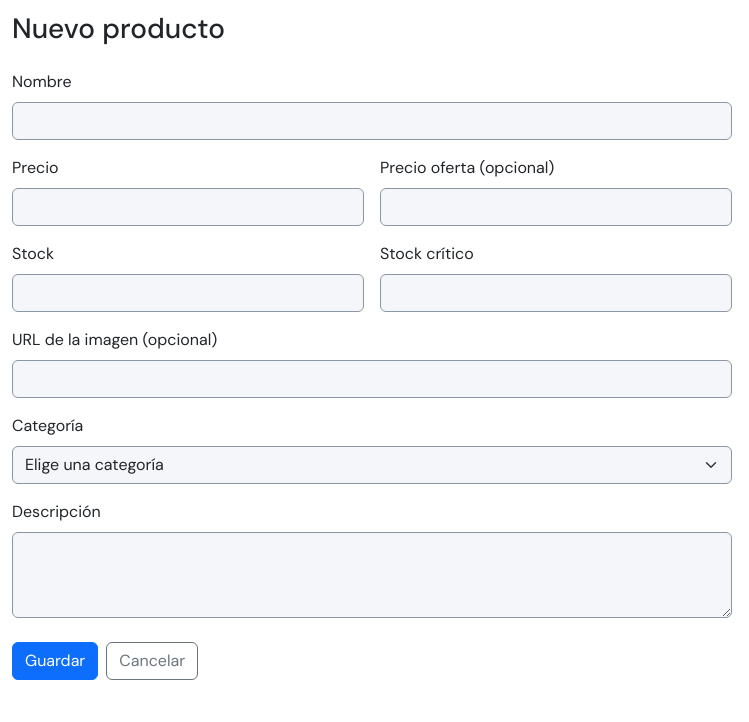
it: ProductoForm › no acepta una oferta mayor o igual al precio
The image size is (749, 722).
In the field labelled "Nombre": (372, 121) x1=12 y1=102 x2=732 y2=140, type "Mouse Pad XL"
In the number field labelled "Precio": (188, 207) x1=12 y1=188 x2=364 y2=226, type "19990"
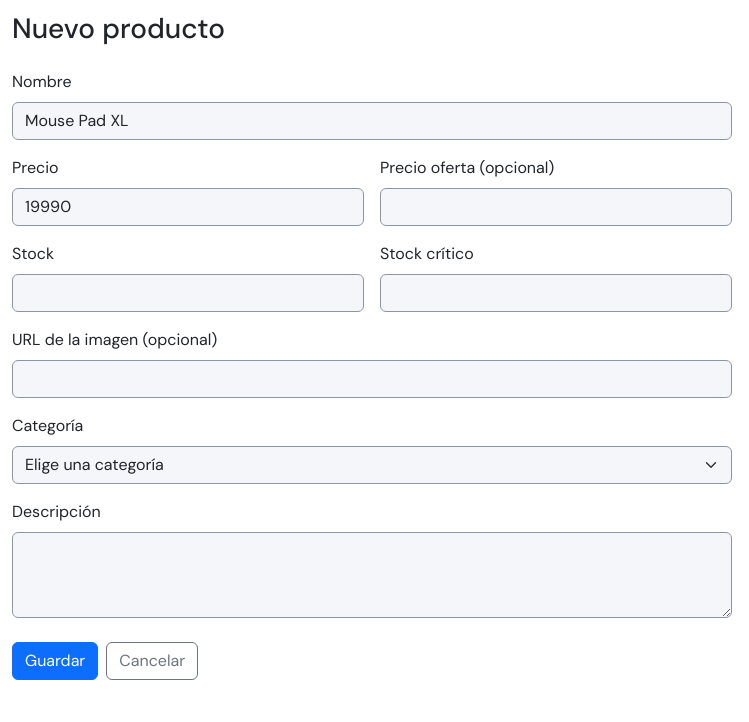
In the number field labelled "Stock": (188, 293) x1=12 y1=274 x2=364 y2=312, type "10"
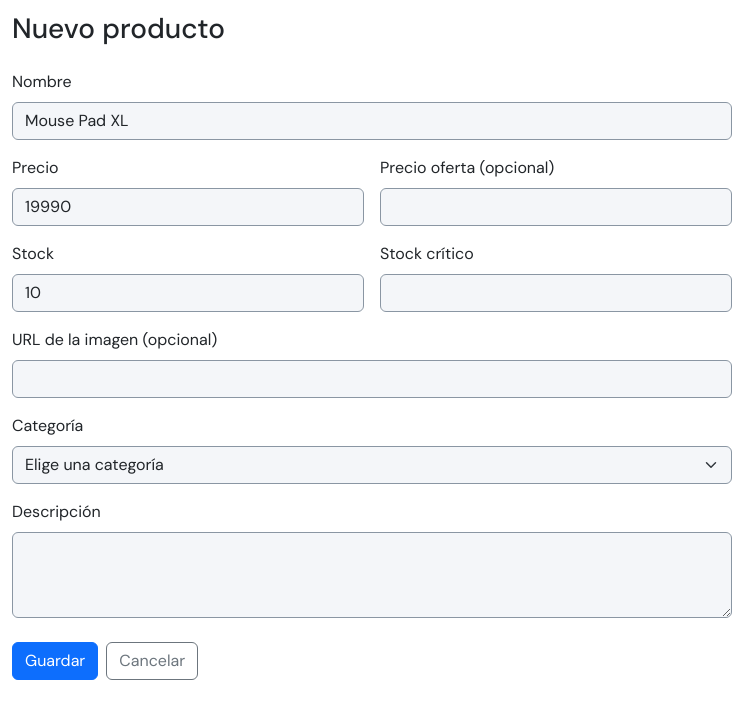
In the number field labelled "Stock crítico": (556, 293) x1=380 y1=274 x2=732 y2=312, type "2"
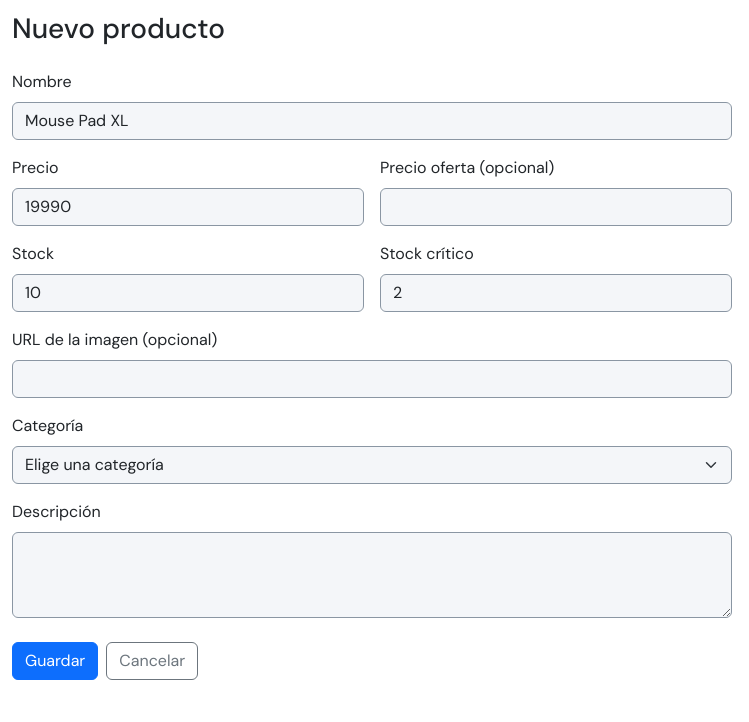
Select "Periféricos" in the dropdown labelled "Categoría": (372, 465) x1=12 y1=446 x2=732 y2=484
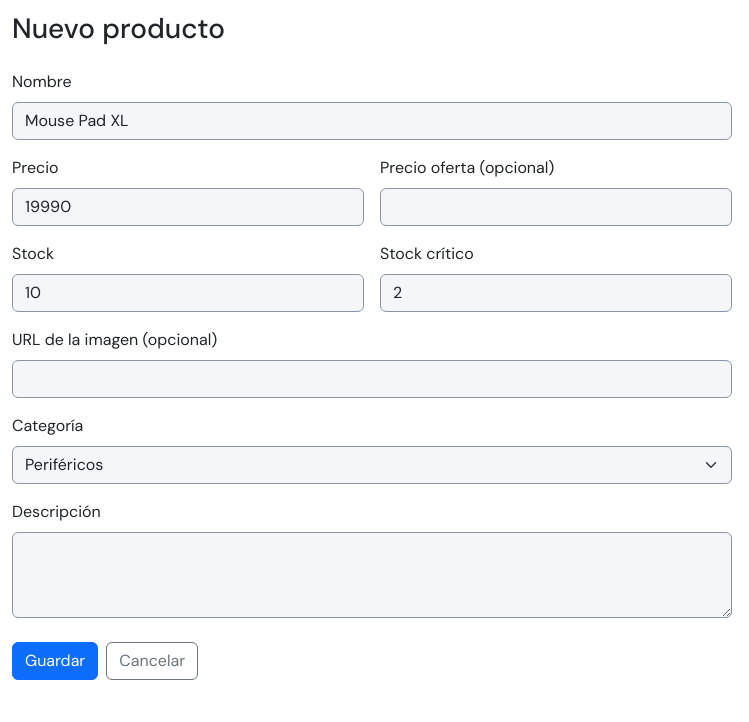
In the number field labelled "Precio oferta (opcional)": (556, 207) x1=380 y1=188 x2=732 y2=226, type "19990"
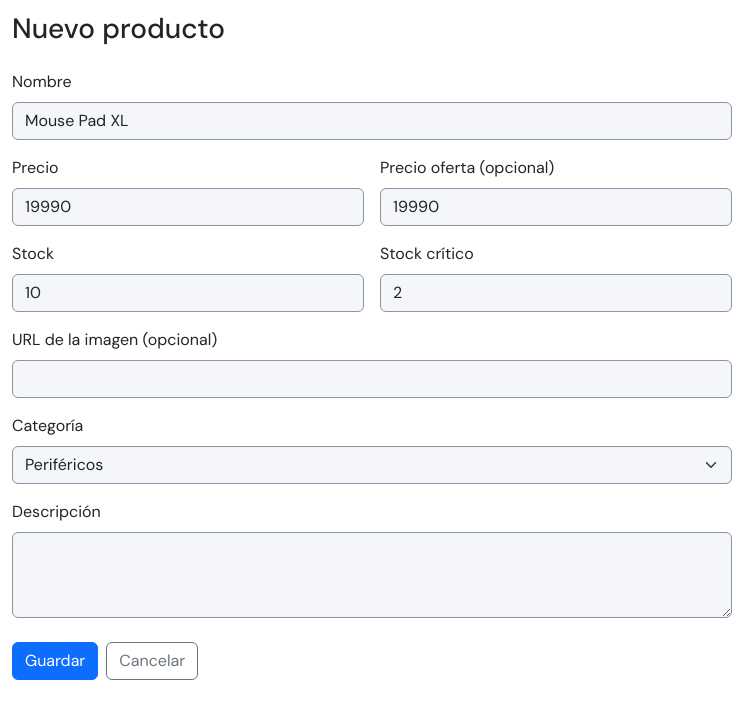
Click the button "Guardar": (55, 661) x1=12 y1=642 x2=98 y2=680
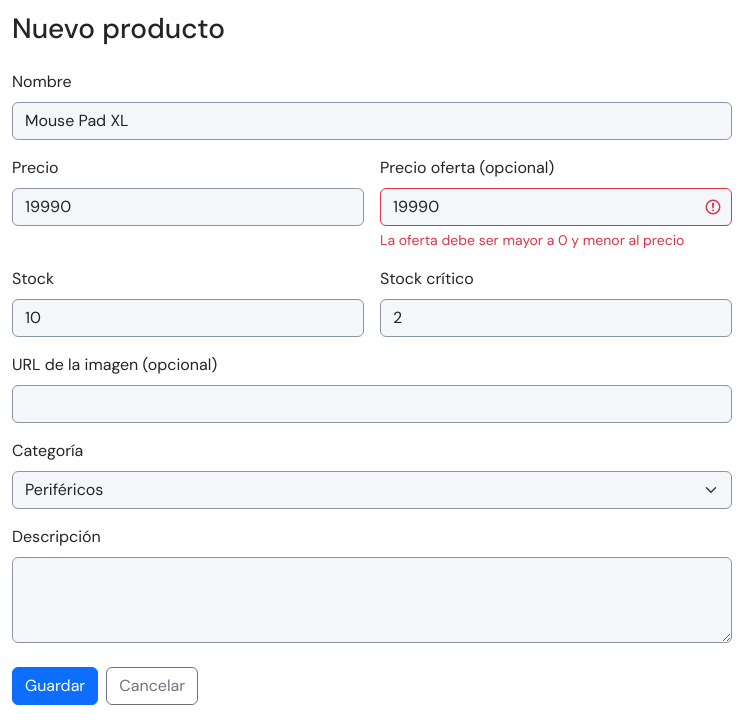
Expected: the text "La oferta debe ser mayor a 0 y menor al precio" is shown, x1=380 y1=230 x2=732 y2=251
